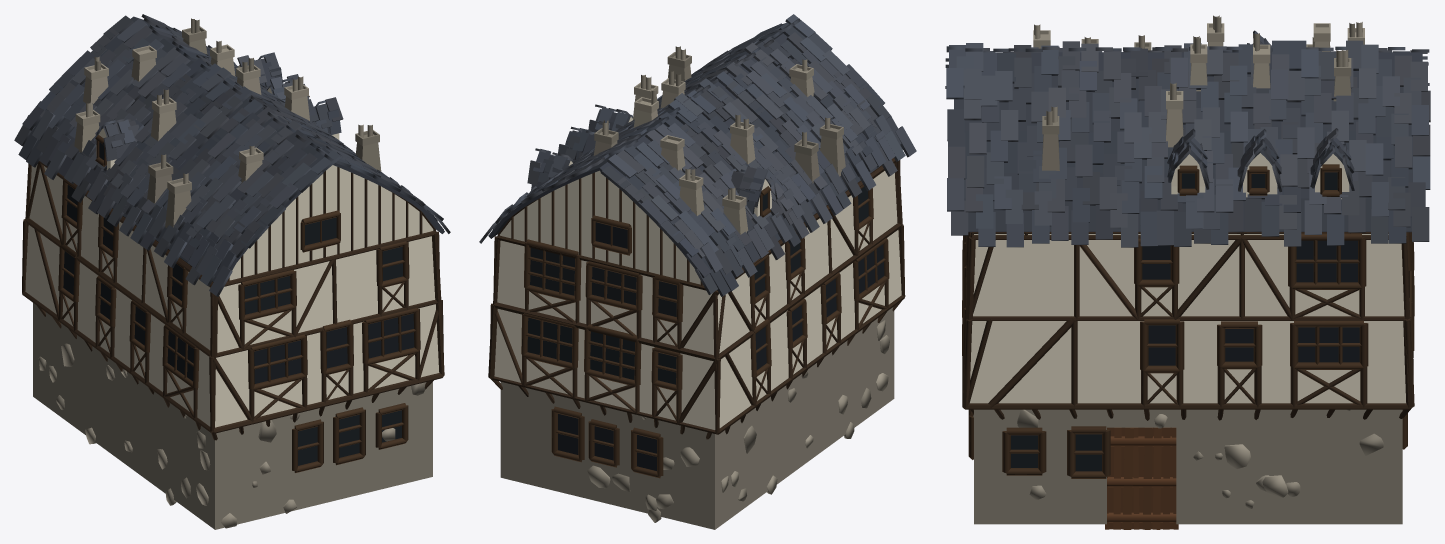
File: house_32.glb
3 renders of one model, left to right at view 1: azimuth 30°, elevation 25°; view 2: azimuth 150°, elevation 25°; view 3: azimuth 270°, elevation 25°, orthographic. The views are drawn at different scales.
Parts seen in each view (by area): view 1: house_32; view 2: house_32; view 3: house_32.
Boxes of the visible parts, x1,y1,x2,y2 form: house_32: [14, 14, 450, 529]; house_32: [479, 14, 916, 529]; house_32: [945, 15, 1430, 529].
Size of the model in its own units: 6.22 by 9.25 by 9.07.
